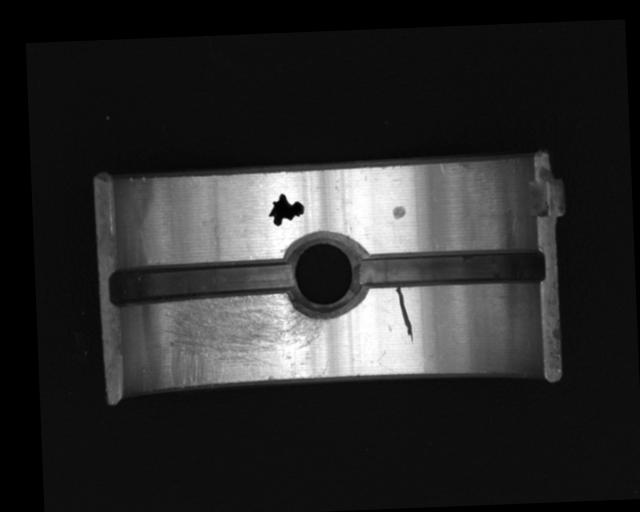blot: (267, 192, 305, 226)
bruise: (391, 205, 407, 219)
gap: (354, 245, 547, 293), (108, 258, 295, 306)
hole: (283, 230, 365, 319)
nick: (395, 285, 415, 344)
scratch: (152, 290, 327, 389)
